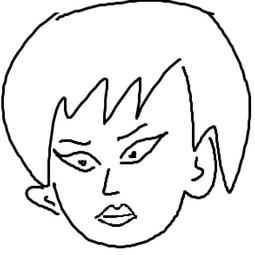cupid_mouth: (92, 201, 144, 230)
ear: (188, 126, 226, 204), (23, 182, 66, 223)
eye: (116, 131, 171, 166), (52, 147, 102, 176)
eyebrow: (58, 137, 96, 149)
frowning_eyebrow: (115, 121, 150, 141)
pointy_nose: (99, 169, 122, 198)
